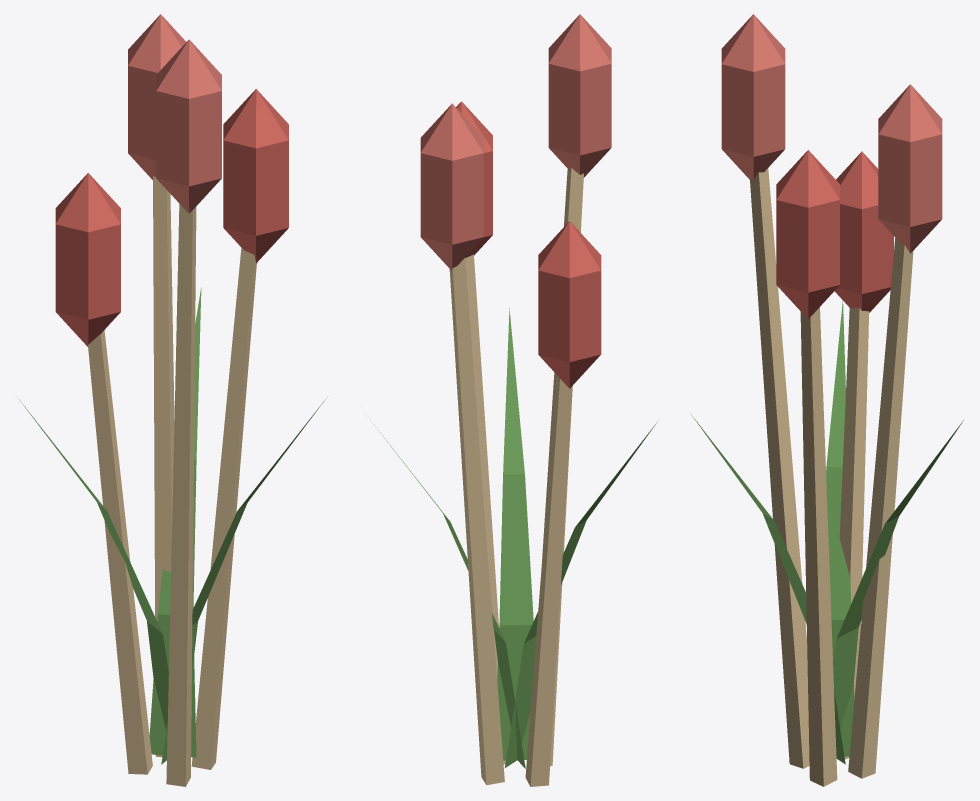
Rendered from deco_reed.obj.
3 renders of one model, left to right at view 1: azimuth 30°, elevation 25°; view 2: azimuth 150°, elevation 25°; view 3: azimuth 270°, elevation 25°, orthographic. The views are drawn at different scales.
Visible parts, largest first — view 1: deco_reed; view 2: deco_reed; view 3: deco_reed.
Boxes of the visible parts, x1,y1,x2,y2 form: deco_reed: (19,14,326,786); deco_reed: (371,14,656,786); deco_reed: (690,14,963,786).
Bounding box in the file's own units: 0.0231 × 0.0656 × 0.0222.
1 material, 1 textured.
